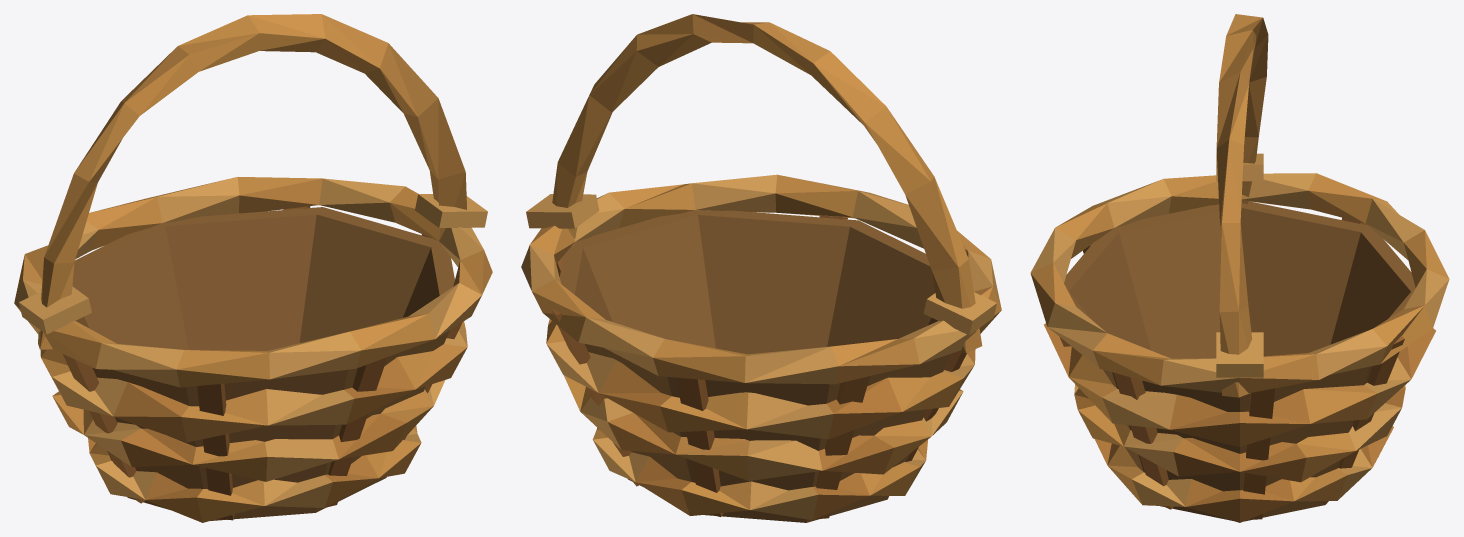
File: Produce Wicker Basket.glb
The picture shows the model from 3 angles, left to right: view 1: azimuth 30°, elevation 25°; view 2: azimuth 150°, elevation 25°; view 3: azimuth 270°, elevation 25°; orthographic projection. The views are drawn at different scales.
Parts seen in each view (by area): view 1: Produce Wicker Basket; view 2: Produce Wicker Basket; view 3: Produce Wicker Basket.
Part boxes in pixels (bbox=[...]): Produce Wicker Basket: bbox=[14, 14, 492, 522]; Produce Wicker Basket: bbox=[521, 14, 1001, 522]; Produce Wicker Basket: bbox=[1030, 14, 1449, 522].
Size of the model in its own units: 0.432 by 0.4147 by 0.3633.
